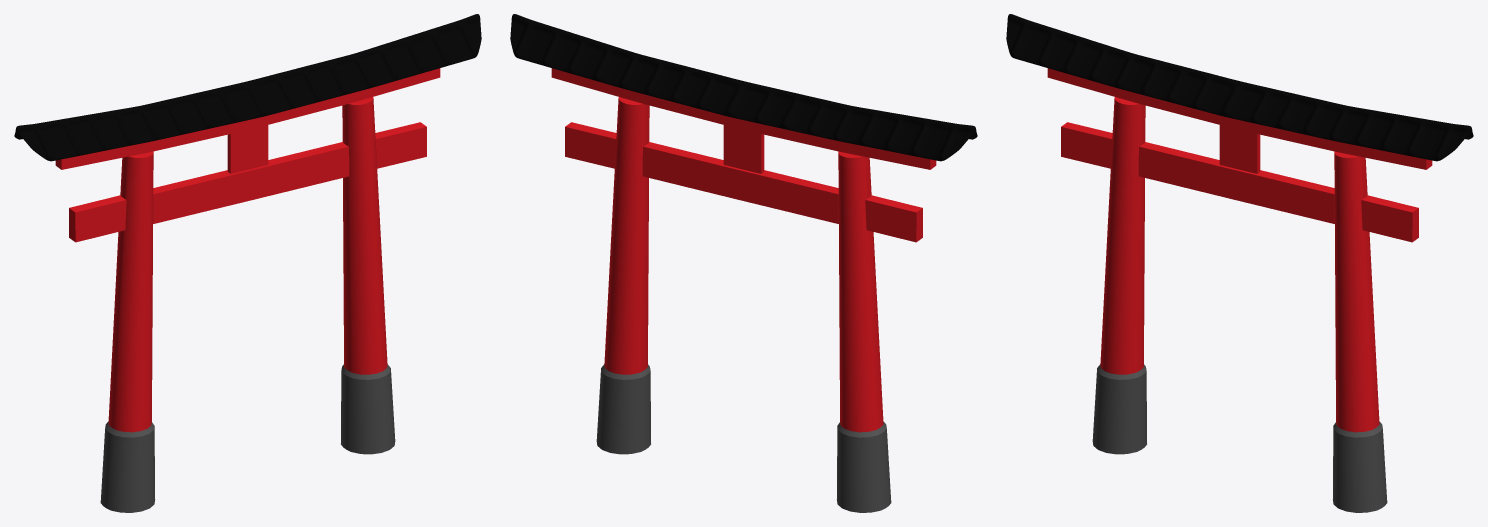
File: DOJO.fbx
3 renders of one model, left to right at view 1: azimuth 30°, elevation 25°; view 2: azimuth 150°, elevation 25°; view 3: azimuth 330°, elevation 25°, orthographic.
Visible parts, largest first — view 1: Circle, Plane.004; view 2: Circle, Plane.004; view 3: Circle, Plane.004.
Boxes of the visible parts, <box> form: Circle: <box>55,68,440,512</box>; Plane.004: <box>14,14,481,161</box>; Circle: <box>551,68,936,512</box>; Plane.004: <box>510,14,977,161</box>; Circle: <box>1047,68,1432,512</box>; Plane.004: <box>1006,14,1473,161</box>.
Size of the model in its own units: 432 by 358 by 51.94.
